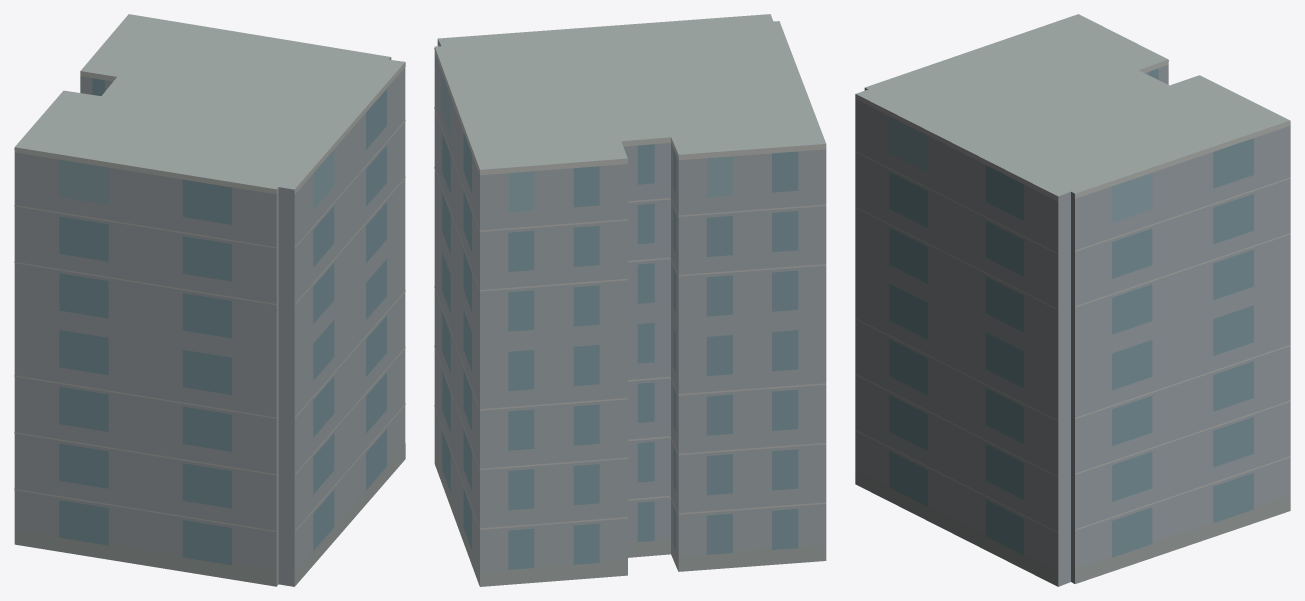
Rendered from survey-upis-32893355.glb.
3 renders of one model, left to right at view 1: azimuth 30°, elevation 25°; view 2: azimuth 150°, elevation 25°; view 3: azimuth 270°, elevation 25°, orthographic. The views are drawn at different scales.
Visible parts, largest first — view 1: survey-upis-32893355.tmp; view 2: survey-upis-32893355.tmp; view 3: survey-upis-32893355.tmp.
Boxes of the visible parts, bbox=[...] form: survey-upis-32893355.tmp: bbox=[14, 14, 405, 586]; survey-upis-32893355.tmp: bbox=[434, 14, 826, 586]; survey-upis-32893355.tmp: bbox=[855, 14, 1290, 586].
Size of the model in its own units: 18.57 by 18.5 by 18.71.
